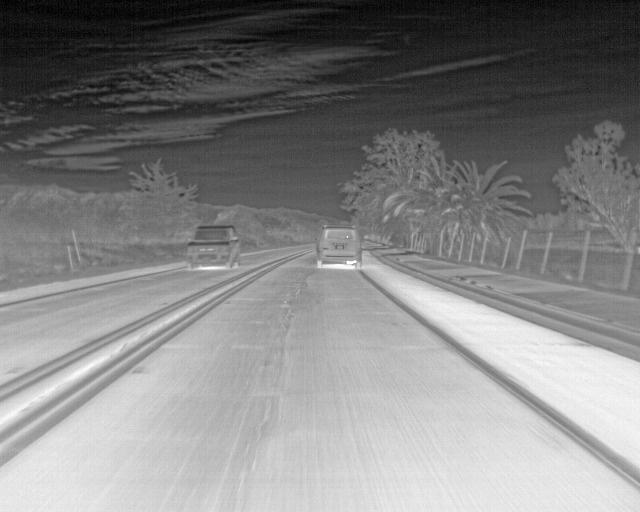car: (186, 224, 242, 269), (317, 226, 361, 270)
